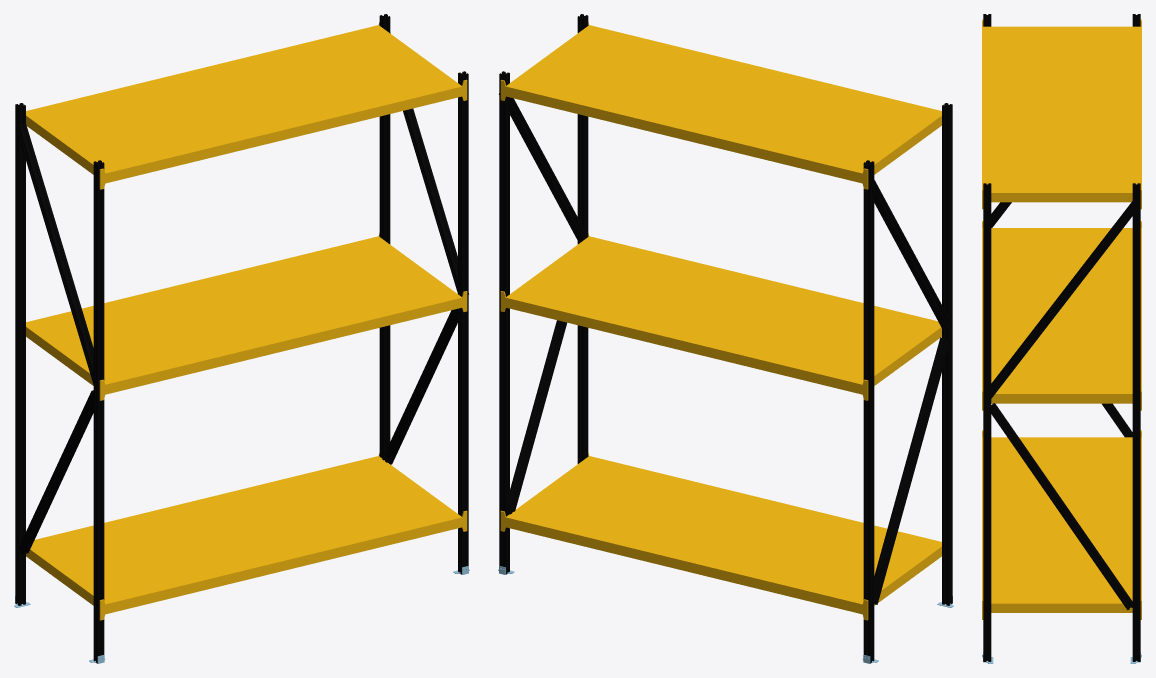
Rendered from estanteria.dae.
3 renders of one model, left to right at view 1: azimuth 30°, elevation 25°; view 2: azimuth 150°, elevation 25°; view 3: azimuth 270°, elevation 25°, orthographic. The views are drawn at different scales.
Visible parts, largest first — view 1: balda_3, balda_2, balda_1, Part 1 (×4), leg_2, leg_3, leg_1, leg_4; view 2: balda_3, balda_1, balda_2, Part 1 (×4), leg_3, leg_2, leg_4, leg_1; view 3: balda_3, balda_2, balda_1, Part 1 (×3), leg_1, leg_4.
Boxes of the visible parts, bbox=[...] form: balda_3: bbox=[26, 22, 467, 189]; balda_2: bbox=[26, 453, 467, 620]; balda_1: bbox=[26, 233, 467, 400]; Part 1 (×4): bbox=[15, 33, 468, 554]; leg_2: bbox=[93, 160, 104, 663]; leg_3: bbox=[15, 103, 25, 605]; leg_1: bbox=[458, 71, 468, 574]; leg_4: bbox=[379, 14, 390, 463]; balda_3: bbox=[500, 22, 941, 189]; balda_1: bbox=[500, 233, 941, 400]; balda_2: bbox=[500, 453, 941, 620]; Part 1 (×4): bbox=[499, 93, 952, 604]; leg_3: bbox=[863, 160, 874, 663]; leg_2: bbox=[942, 103, 952, 605]; leg_4: bbox=[499, 71, 509, 574]; leg_1: bbox=[577, 14, 588, 463]; balda_3: bbox=[982, 19, 1141, 209]; balda_2: bbox=[982, 430, 1141, 619]; balda_1: bbox=[982, 221, 1141, 410]; Part 1 (×3): bbox=[983, 201, 1139, 610]; leg_1: bbox=[983, 183, 991, 661]; leg_4: bbox=[1132, 183, 1140, 661].
Bounding box in the file's own units: 1.59 × 0.61 × 2.
